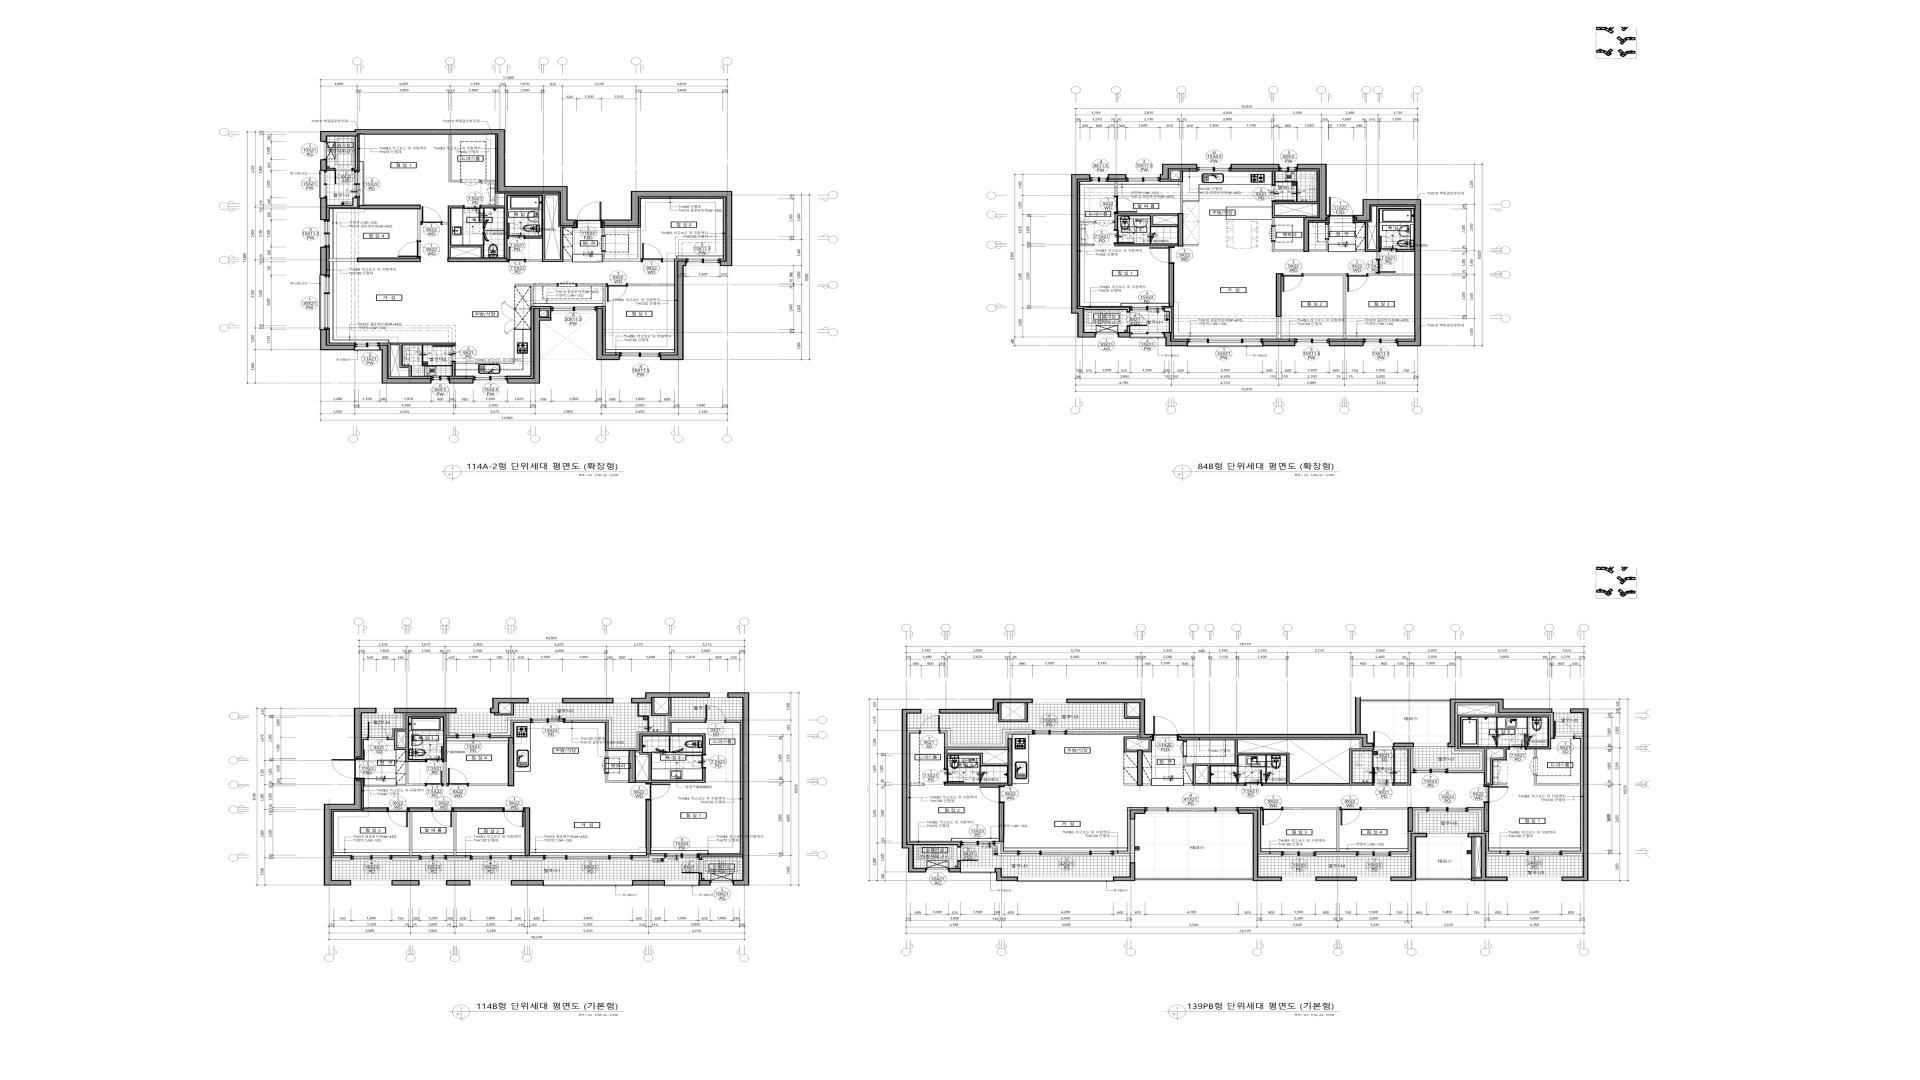door: (331, 758, 364, 779), (576, 202, 601, 228), (1153, 716, 1178, 741), (1329, 196, 1353, 218), (431, 807, 454, 828), (502, 807, 525, 827), (386, 807, 409, 827), (1150, 247, 1175, 264), (980, 786, 1005, 803), (1484, 786, 1509, 803), (645, 783, 670, 800), (1553, 720, 1575, 740), (447, 767, 468, 787), (367, 721, 388, 741), (641, 243, 662, 262), (1261, 807, 1283, 825), (605, 284, 628, 302), (1271, 185, 1295, 202), (1346, 273, 1367, 291), (1282, 273, 1303, 291), (1340, 807, 1361, 825), (1373, 767, 1394, 786), (1373, 732, 1394, 750), (919, 715, 940, 733), (421, 207, 442, 225), (1114, 196, 1137, 214), (705, 704, 725, 723), (433, 345, 455, 361), (398, 241, 421, 257), (682, 858, 703, 874), (1126, 311, 1147, 326), (957, 847, 978, 861), (943, 769, 964, 783), (686, 754, 707, 769), (1509, 733, 1526, 750), (335, 167, 352, 185), (1379, 236, 1398, 252), (508, 247, 526, 262), (463, 206, 481, 222), (1375, 260, 1395, 274), (1114, 229, 1134, 244), (1245, 770, 1262, 786), (426, 746, 443, 762), (426, 771, 443, 787), (508, 223, 525, 239), (460, 179, 481, 186), (1530, 758, 1538, 775), (1096, 220, 1114, 227), (601, 758, 609, 773), (1269, 225, 1275, 241), (558, 281, 576, 286), (1325, 224, 1332, 239)
wall: (320, 129, 576, 225), (1354, 199, 1422, 347), (601, 191, 732, 266), (1178, 698, 1373, 748), (1184, 740, 1373, 786), (1458, 715, 1551, 786), (481, 194, 572, 262), (1448, 699, 1552, 748), (1561, 708, 1589, 881), (1071, 174, 1096, 338), (728, 692, 749, 886), (323, 779, 361, 886), (902, 709, 926, 873), (394, 715, 447, 786), (636, 733, 705, 783), (1067, 699, 1153, 738), (506, 309, 551, 384), (1238, 810, 1282, 881), (1357, 207, 1415, 260), (1303, 274, 1346, 339), (1298, 164, 1329, 252), (659, 261, 686, 360), (1283, 807, 1340, 852), (390, 343, 455, 377), (442, 206, 484, 257), (380, 345, 431, 384), (1468, 833, 1507, 881), (651, 698, 705, 732), (940, 728, 1033, 746), (1391, 833, 1427, 881), (564, 717, 612, 749), (939, 699, 1033, 713), (944, 748, 1007, 769), (603, 228, 641, 262), (596, 309, 620, 360), (353, 708, 376, 758), (1273, 202, 1317, 225), (1114, 214, 1178, 229), (514, 284, 558, 306), (1113, 820, 1135, 862), (630, 692, 709, 703), (1448, 748, 1484, 770), (491, 717, 530, 736), (320, 330, 355, 351), (576, 284, 605, 306), (1394, 749, 1411, 786), (489, 698, 529, 713), (998, 703, 1029, 723), (1160, 164, 1197, 179), (448, 135, 460, 182), (1171, 170, 1183, 214), (1534, 775, 1580, 786), (1135, 877, 1253, 881), (1113, 862, 1135, 881), (1361, 699, 1449, 703), (1468, 810, 1482, 833), (1164, 332, 1188, 347), (357, 257, 421, 262), (394, 708, 456, 713), (359, 204, 421, 210), (508, 737, 514, 786), (1273, 241, 1303, 252), (447, 257, 508, 262), (996, 868, 1018, 881), (1168, 264, 1175, 307), (646, 800, 651, 855), (1415, 810, 1427, 833), (327, 198, 357, 207), (562, 698, 613, 703), (996, 844, 1018, 856), (998, 803, 1005, 843), (495, 703, 514, 716), (525, 807, 530, 856), (454, 807, 502, 812), (1230, 164, 1279, 169), (1007, 738, 1013, 786), (1309, 239, 1328, 252), (1137, 749, 1143, 786), (1125, 703, 1139, 719), (1124, 737, 1138, 753), (1276, 273, 1282, 316), (1416, 877, 1472, 881), (629, 750, 636, 783), (632, 880, 665, 886), (907, 843, 961, 847), (605, 774, 628, 783), (1164, 307, 1172, 332), (1067, 729, 1139, 732), (1484, 803, 1490, 832), (320, 247, 327, 276), (392, 880, 419, 886), (1084, 307, 1130, 311), (1329, 342, 1364, 347), (510, 881, 543, 886), (1178, 214, 1183, 247), (1262, 342, 1295, 347), (352, 137, 357, 170), (409, 812, 413, 856), (699, 855, 742, 858), (944, 783, 1007, 786), (1130, 810, 1146, 820), (633, 856, 665, 861), (1114, 244, 1178, 247), (1407, 807, 1414, 832), (1316, 877, 1357, 881), (320, 198, 327, 220), (446, 881, 471, 886), (448, 378, 473, 384), (363, 807, 386, 812), (1361, 807, 1407, 810), (1143, 740, 1153, 753), (628, 284, 674, 286), (409, 807, 431, 812), (1276, 316, 1282, 339), (454, 812, 456, 856), (328, 258, 357, 262), (1472, 837, 1474, 878), (1316, 855, 1357, 857), (1394, 742, 1414, 748), (468, 783, 508, 786), (1108, 174, 1126, 179), (512, 858, 543, 861), (541, 309, 551, 316), (418, 210, 421, 241), (699, 880, 711, 886), (320, 160, 327, 171), (451, 363, 456, 377), (392, 858, 419, 861), (948, 868, 961, 873), (1258, 855, 1282, 857), (1367, 274, 1415, 276), (1118, 332, 1130, 338), (447, 858, 469, 861), (1486, 853, 1507, 856), (1563, 853, 1582, 856), (1391, 855, 1411, 857), (332, 858, 351, 861), (662, 258, 674, 262), (725, 717, 742, 720), (1398, 249, 1415, 252), (1273, 170, 1275, 185), (1114, 182, 1117, 196), (1124, 783, 1137, 786), (907, 728, 919, 731), (496, 194, 498, 206), (957, 861, 961, 868), (1126, 326, 1130, 332), (699, 874, 703, 880), (1575, 733, 1582, 736), (1143, 783, 1151, 786), (514, 785, 530, 786), (603, 228, 605, 236), (1080, 222, 1095, 223), (481, 181, 496, 182), (450, 733, 456, 736), (605, 752, 608, 758), (1080, 245, 1093, 247), (327, 167, 334, 170), (361, 735, 367, 737), (388, 735, 393, 737), (1009, 735, 1011, 738), (1325, 223, 1329, 224)
window: (1146, 807, 1238, 814), (319, 276, 330, 330), (1018, 851, 1113, 856), (1018, 877, 1113, 882), (543, 855, 633, 860), (545, 881, 632, 886), (1188, 339, 1262, 344), (551, 306, 596, 314), (620, 352, 659, 360), (1507, 851, 1563, 856), (1126, 174, 1160, 182), (686, 258, 720, 266), (473, 376, 506, 384), (320, 220, 330, 247), (1130, 332, 1164, 339), (1282, 874, 1316, 881), (1414, 767, 1448, 774), (1364, 339, 1398, 345), (1295, 339, 1329, 345), (469, 855, 512, 860), (352, 170, 360, 198), (1197, 165, 1230, 171), (1427, 807, 1468, 812), (351, 855, 392, 860), (1509, 877, 1561, 881), (319, 171, 327, 198), (355, 343, 380, 351), (1188, 344, 1262, 347), (1130, 306, 1164, 311), (961, 868, 996, 873), (1357, 852, 1391, 857), (1282, 852, 1316, 857), (1033, 729, 1067, 735), (665, 881, 699, 886), (665, 853, 699, 858), (961, 841, 996, 847), (456, 733, 491, 738), (456, 708, 489, 713), (351, 881, 392, 885), (1427, 833, 1468, 837), (471, 881, 510, 885), (419, 855, 447, 860), (1091, 174, 1108, 182), (1357, 877, 1391, 881), (1033, 699, 1067, 703), (530, 719, 564, 723), (431, 376, 448, 384), (529, 699, 562, 703), (1279, 165, 1298, 171), (711, 880, 733, 885), (1096, 332, 1118, 338), (320, 142, 327, 160), (419, 881, 446, 885), (709, 692, 727, 698), (1414, 744, 1448, 746), (377, 708, 394, 713), (926, 868, 948, 872), (613, 699, 630, 703), (922, 709, 939, 713), (1552, 709, 1571, 712)
